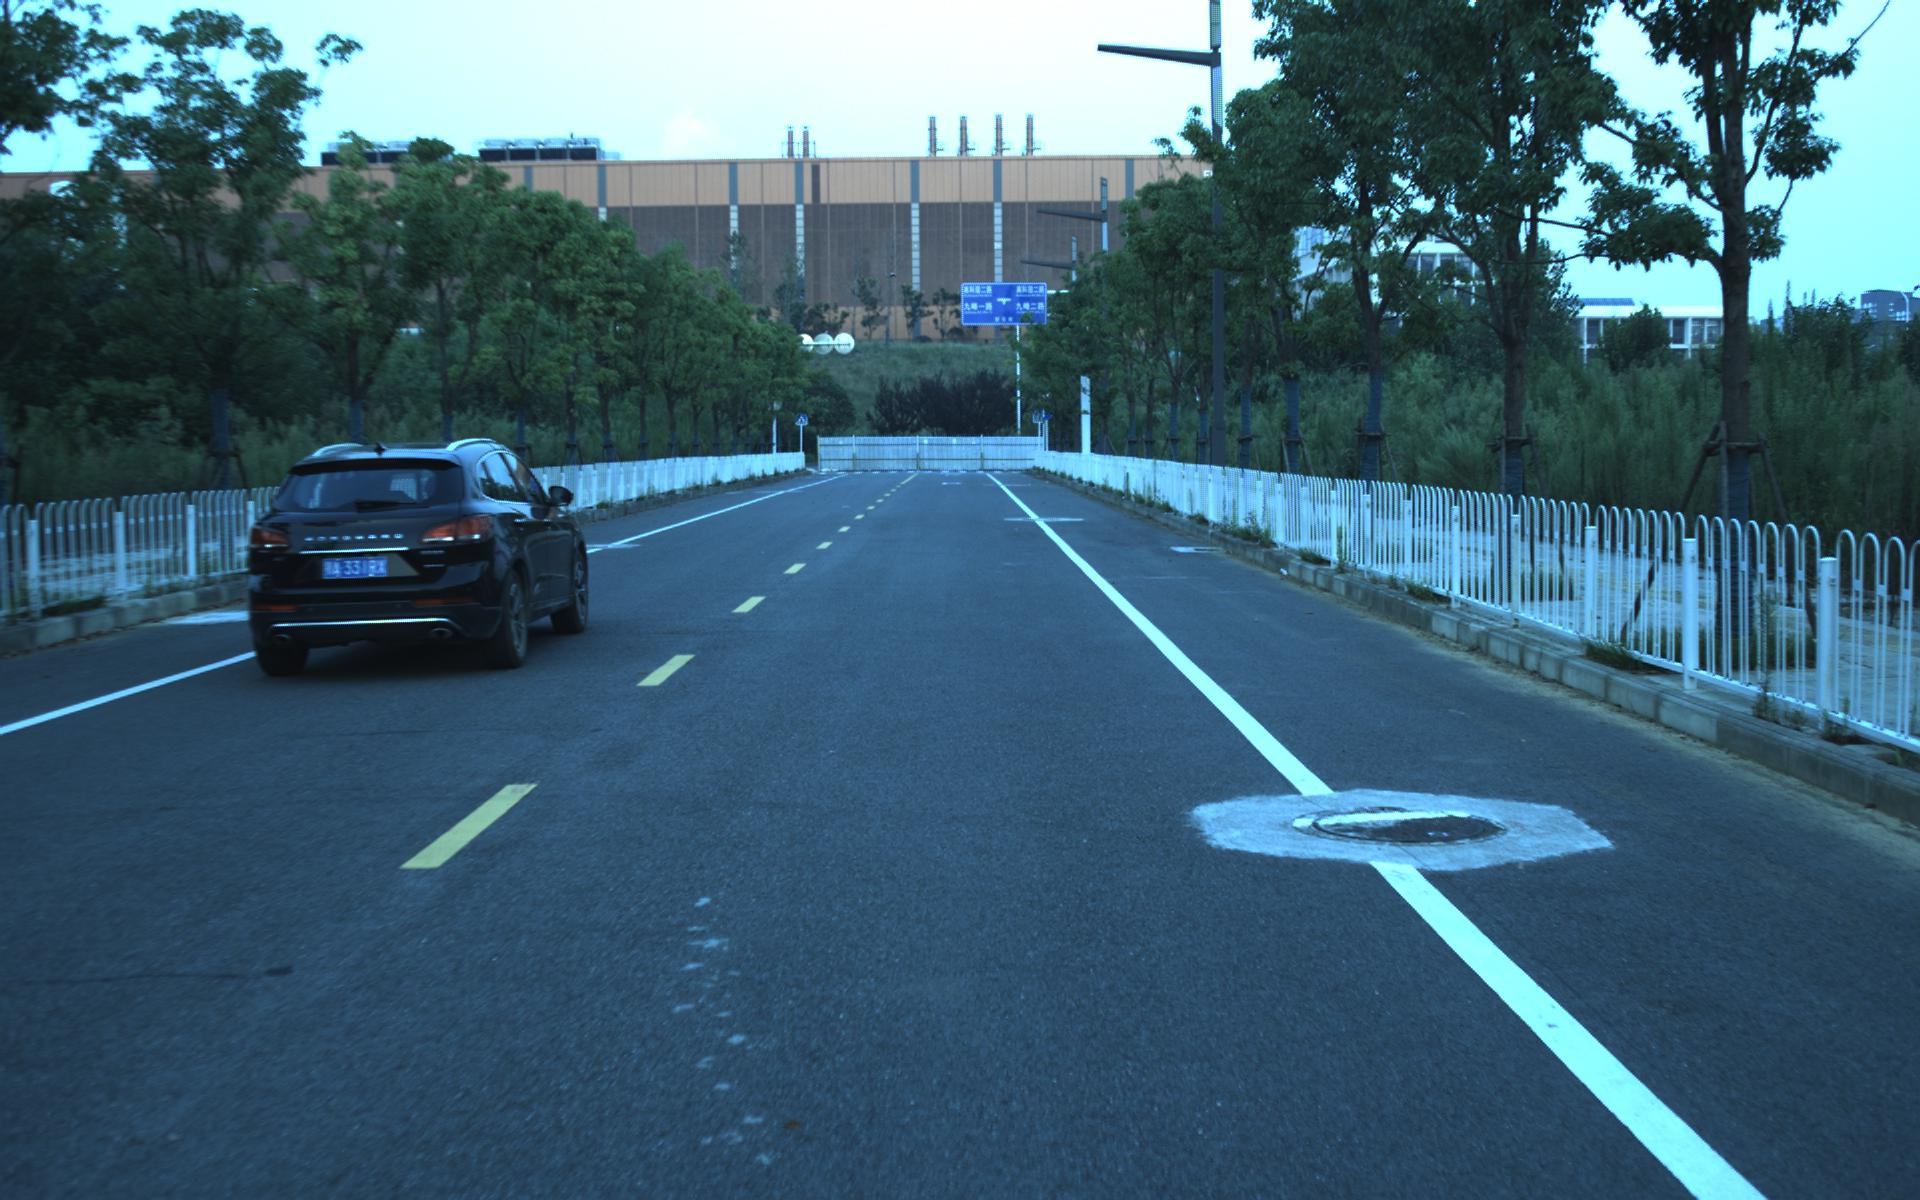Car: (229, 429, 593, 677)
